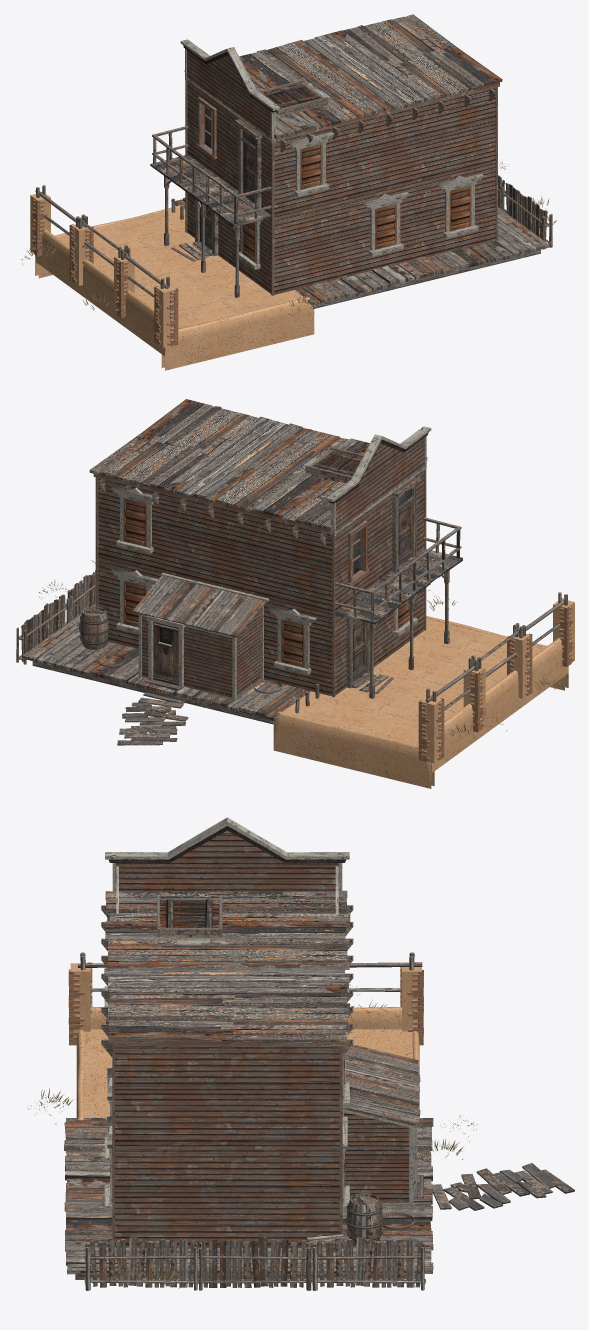
The model's file is House_09_M2.gltf.
The picture shows the model from 3 angles, top to bottom: view 1: azimuth 30°, elevation 25°; view 2: azimuth 150°, elevation 25°; view 3: azimuth 270°, elevation 25°; orthographic projection. The views are drawn at different scales.
Parts seen in each view (by area): view 1: Wall_W6H3_T1 (2), Roof_W6D6_v2, Floor_9x9, Wall_W3H3_T1, Roof_W6_v1 (2), SignBack_W6H2D2_v1, Wall_W_W3H3_T1, Balcony_W6_v1, Wall_W_W3H3_T1 (1), Wall_W6H3_T3 (2), Wall_W_W3H3_T1 (6), Roof_W3D3_v1 (+21 smaller); view 2: Roof_W6D6_v2, Wall_W6H3_T1 (3), Cabin_W4H3D1_v1, Floor_9x9, Roof_W6_v1, SignBack_W6H2D2_v1, Wall_W6H3_T3, Balcony_W6_v1, Wall_W_W3H3_T1 (7), Roof_W3D3_v1 (1), Wall_W6H3_T3 (2), Wall_W_W3H3_T1 (4) (+26 smaller); view 3: Wall_W6H3_T1 (4), Roof_W6D6_v2, Wall_W6H3_T1, Floor_9x9, SignBack_W6H2D2_v1, Cabin_W4H3D1_v1, Roof_W3D3_v1 (1), Roof_W3D3_v1, Fence_W3_v4 (2), Fence_W3_v4 (1), Fence_W3_v4, Woodpath_v5 (+12 smaller).
Boxes of the visible parts, x1,y1,x2,y2 form: Wall_W6H3_T1 (2): (347, 87, 495, 199); Roof_W6D6_v2: (184, 30, 433, 140); Floor_9x9: (175, 198, 549, 308); Wall_W3H3_T1: (274, 199, 347, 294); Roof_W6_v1 (2): (161, 297, 314, 370); SignBack_W6H2D2_v1: (180, 39, 305, 143); Wall_W_W3H3_T1: (347, 181, 421, 276); Balcony_W6_v1: (150, 126, 271, 227); Wall_W_W3H3_T1 (1): (422, 163, 495, 257); Wall_W6H3_T3 (2): (140, 273, 304, 328); Wall_W_W3H3_T1 (6): (274, 124, 347, 216); Roof_W3D3_v1: (386, 46, 502, 103); Roof_W6D6_v2: (163, 416, 427, 533); Wall_W6H3_T1 (3): (176, 496, 332, 613); Cabin_W4H3D1_v1: (133, 573, 269, 700); Floor_9x9: (22, 603, 310, 724); Roof_W6_v1: (273, 711, 434, 788); SignBack_W6H2D2_v1: (298, 426, 431, 536); Wall_W6H3_T3: (283, 687, 458, 744); Balcony_W6_v1: (335, 517, 462, 624); Wall_W_W3H3_T1 (7): (98, 478, 176, 575); Roof_W3D3_v1 (1): (89, 435, 207, 496); Wall_W6H3_T3 (2): (393, 619, 544, 680); Wall_W_W3H3_T1 (4): (264, 599, 332, 696); Wall_W6H3_T1 (4): (115, 1046, 339, 1145); Roof_W6D6_v2: (104, 890, 350, 996); Wall_W6H3_T1: (115, 1145, 339, 1247); Floor_9x9: (64, 1118, 433, 1279); SignBack_W6H2D2_v1: (105, 817, 349, 914); Cabin_W4H3D1_v1: (342, 1044, 420, 1205); Roof_W3D3_v1 (1): (221, 985, 349, 1046); Roof_W3D3_v1: (106, 993, 235, 1045); Fence_W3_v4 (2): (312, 1237, 425, 1290); Fence_W3_v4 (1): (198, 1237, 312, 1290); Fence_W3_v4: (84, 1237, 197, 1290); Woodpath_v5: (432, 1163, 574, 1210).
Size of what is drawn, in the model's own units: 19.16 by 9.67 by 14.8.
2 materials, 2 textured.
